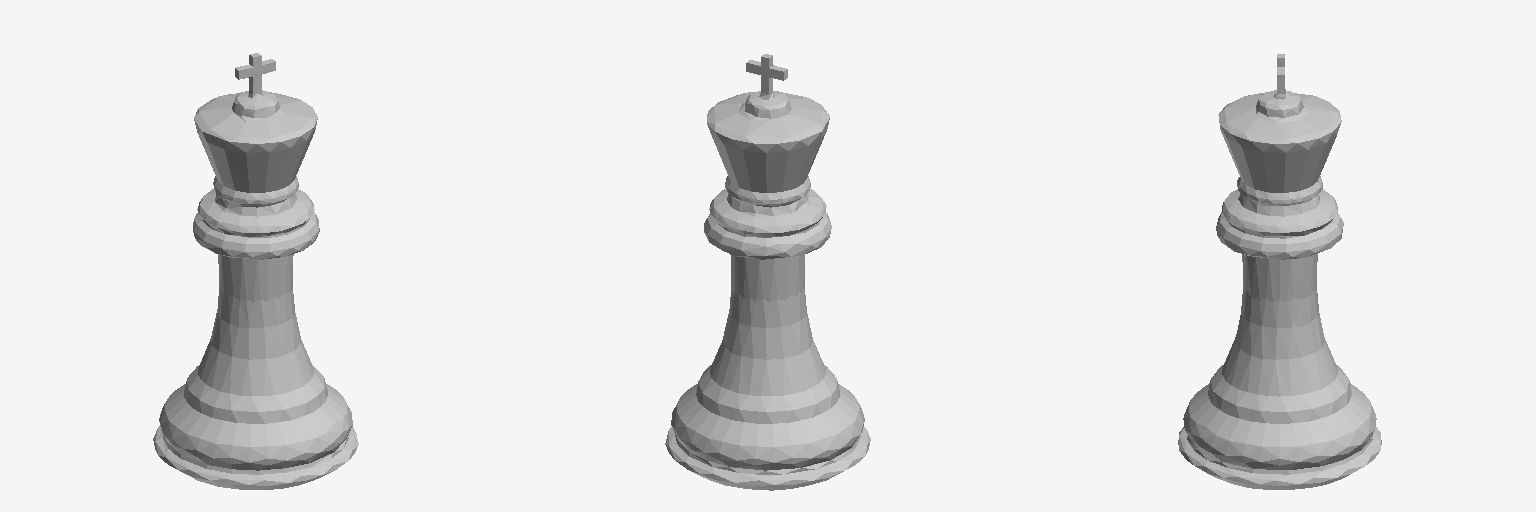
The model's file is king.obj.
The picture shows the model from 3 angles: view 1: azimuth 30°, elevation 25°; view 2: azimuth 150°, elevation 25°; view 3: azimuth 270°, elevation 25°; orthographic projection.
Visible parts, largest first — view 1: Vert.002; view 2: Vert.002; view 3: Vert.002.
Part boxes in pixels (left/top/right/bottom): Vert.002: left=153, top=53, right=358, bottom=489; Vert.002: left=665, top=54, right=870, bottom=490; Vert.002: left=1178, top=54, right=1381, bottom=489.
Size of the model in its own units: 1.31 by 2.84 by 1.31.